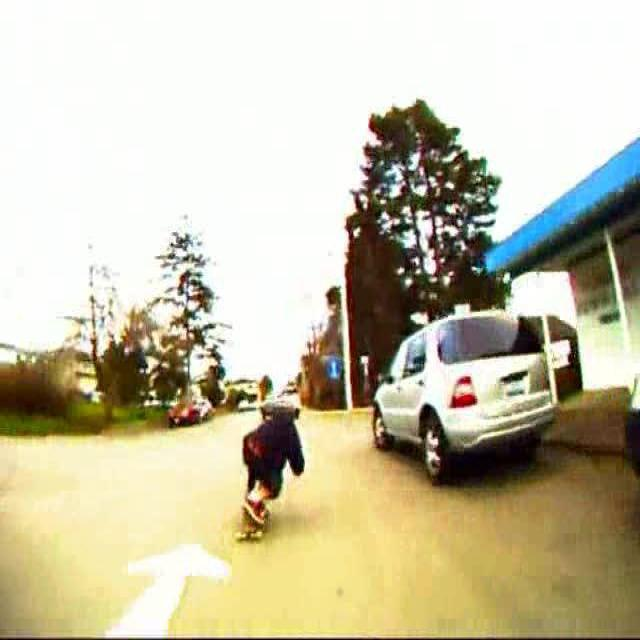other: (113, 532, 230, 630), (228, 478, 280, 556)
